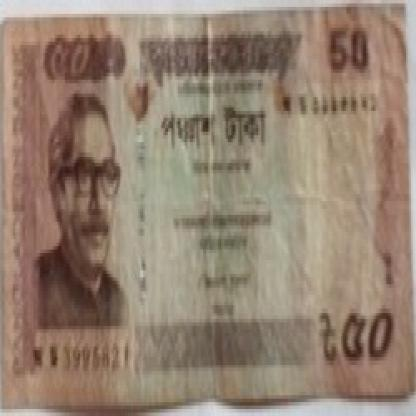Fifty taka: (321, 302, 396, 374), (40, 31, 95, 104)
